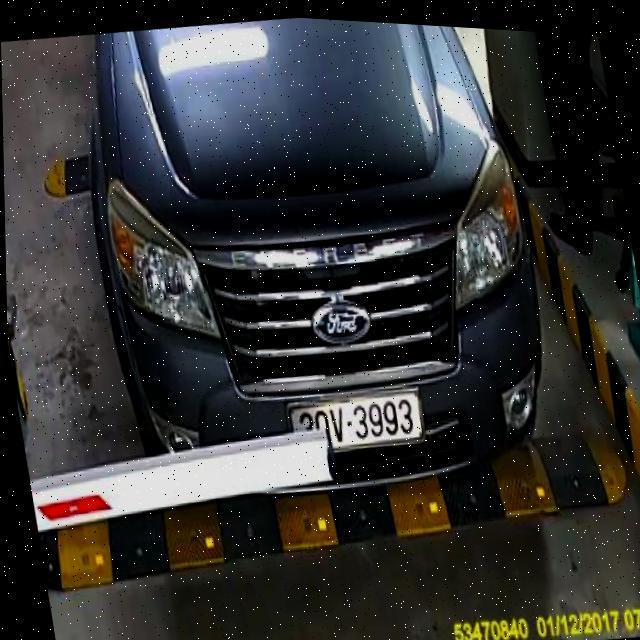car: (61, 4, 574, 536)
plate: (282, 380, 431, 464)
